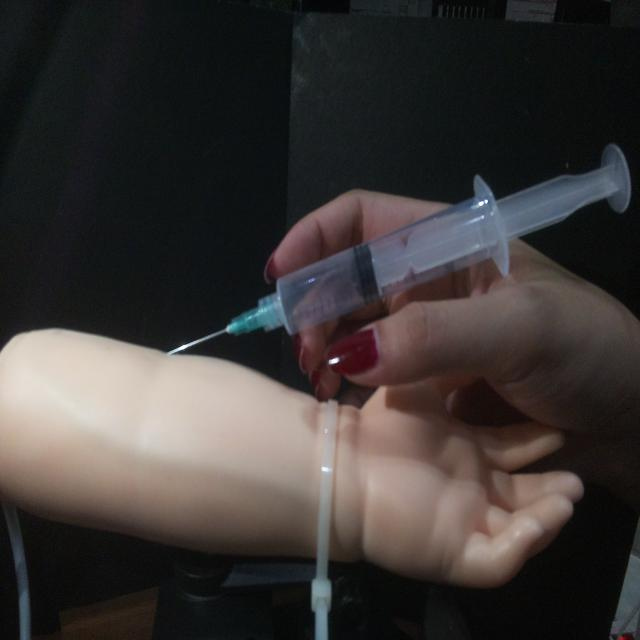25deg: (163, 138, 632, 359)
